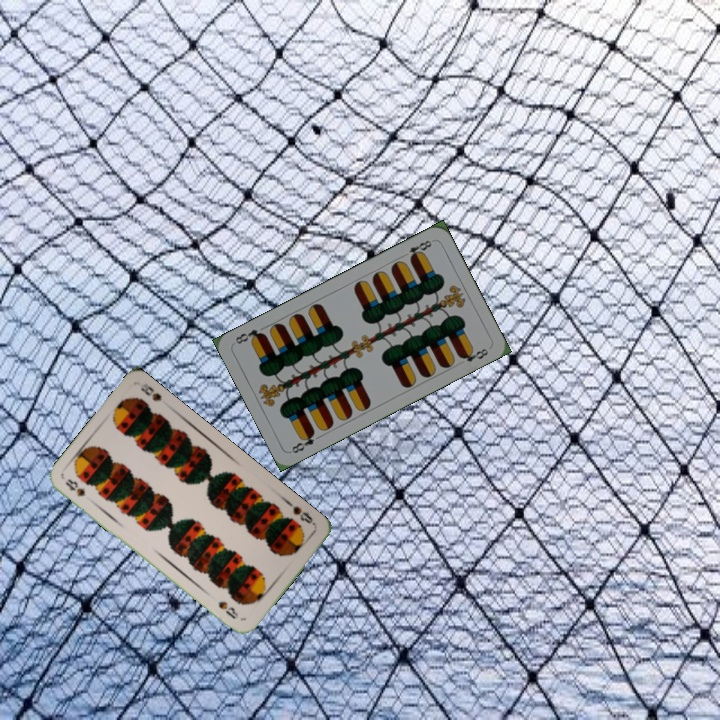E8: (398, 236, 436, 263), (287, 427, 317, 456)
S8: (289, 502, 318, 528), (61, 475, 88, 499)
